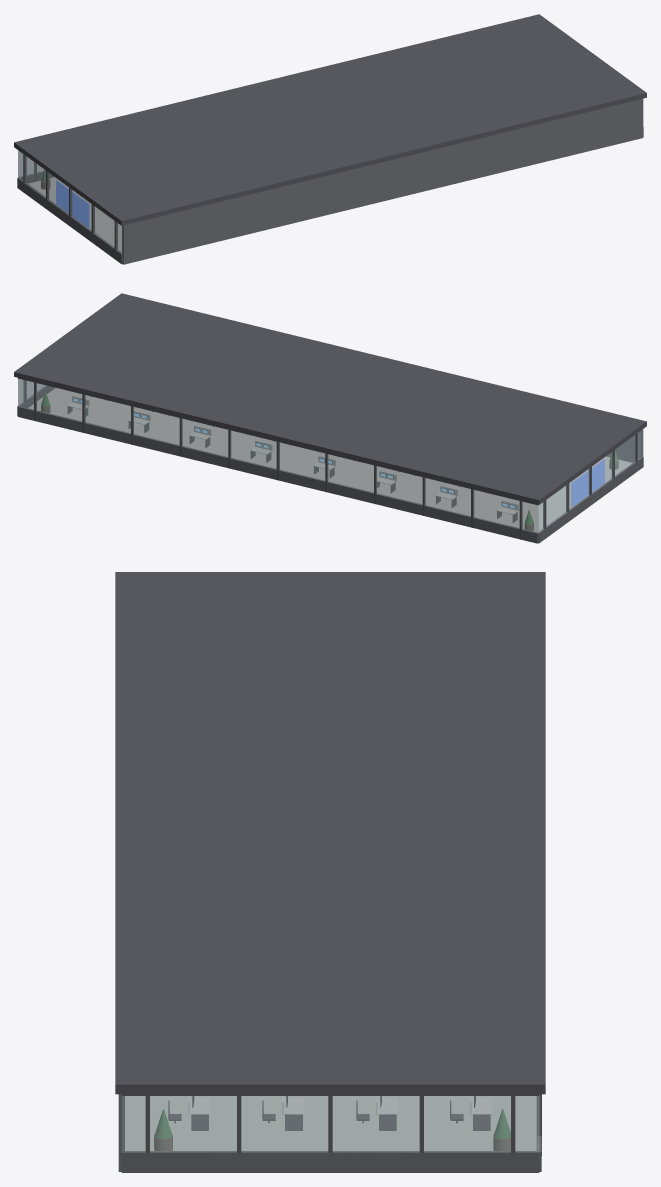
The model's file is first-floor.glb.
The picture shows the model from 3 angles, top to bottom: view 1: azimuth 30°, elevation 25°; view 2: azimuth 150°, elevation 25°; view 3: azimuth 270°, elevation 25°; orthographic projection. The views are drawn at different scales.
Parts seen in each view (by area): view 1: Flr_Roof, Flr_Wall_Back, Flr_SideLeft_Glass, Flr_SideLeft_Spandrel, Flr_Floor, Flr_WallDisplay_Panel; view 2: Flr_Roof, Flr_Wall_FrontGlass, Flr_Floor, Flr_Front_Spandrel, Flr_SideLeft_Glass, Flr_SideLeft_Spandrel, Flr_WallDisplay_Panel, Flr_Front_Head, Flr_Wall_Back; view 3: Flr_Roof, Flr_SideRight_Glass, Flr_Floor, Flr_SideRight_Spandrel, Flr_SideRight_Head.
Boxes of the visible parts, x1,y1,x2,y2 form: Flr_Roof: (14, 14, 646, 225); Flr_Wall_Back: (122, 98, 643, 264); Flr_SideLeft_Glass: (18, 150, 122, 253); Flr_SideLeft_Spandrel: (17, 178, 122, 264); Flr_Floor: (28, 177, 121, 251); Flr_WallDisplay_Panel: (56, 180, 89, 227); Flr_Roof: (14, 293, 646, 504); Flr_Wall_FrontGlass: (18, 378, 538, 533); Flr_Floor: (28, 388, 631, 532); Flr_Front_Spandrel: (18, 406, 538, 543); Flr_SideLeft_Glass: (538, 429, 642, 532); Flr_SideLeft_Spandrel: (538, 457, 643, 543); Flr_WallDisplay_Panel: (571, 459, 604, 506); Flr_Front_Head: (18, 378, 537, 505); Flr_Wall_Back: (606, 429, 643, 462); Flr_Roof: (115, 572, 545, 1094); Flr_SideRight_Glass: (122, 1096, 539, 1152); Flr_Floor: (125, 1096, 536, 1150); Flr_SideRight_Spandrel: (121, 1151, 539, 1172); Flr_SideRight_Head: (121, 1094, 539, 1095).
Bounding box in the file's own units: 46.5 × 3.8 × 16.5.
